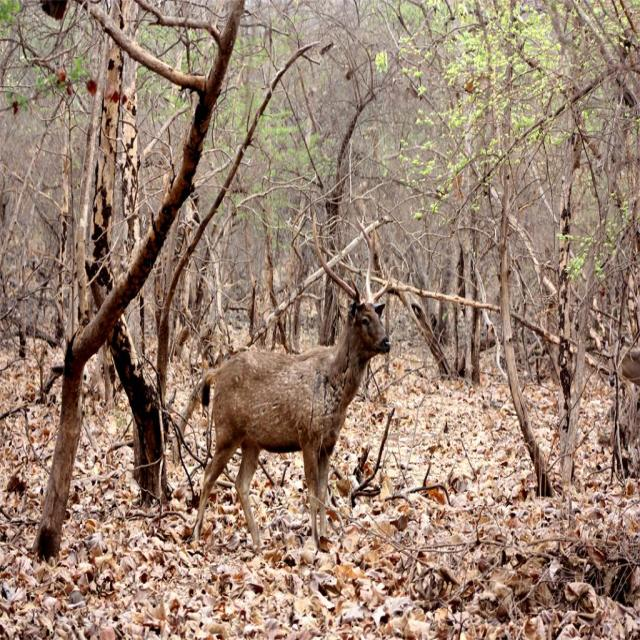Deer: (192, 212, 397, 540)
